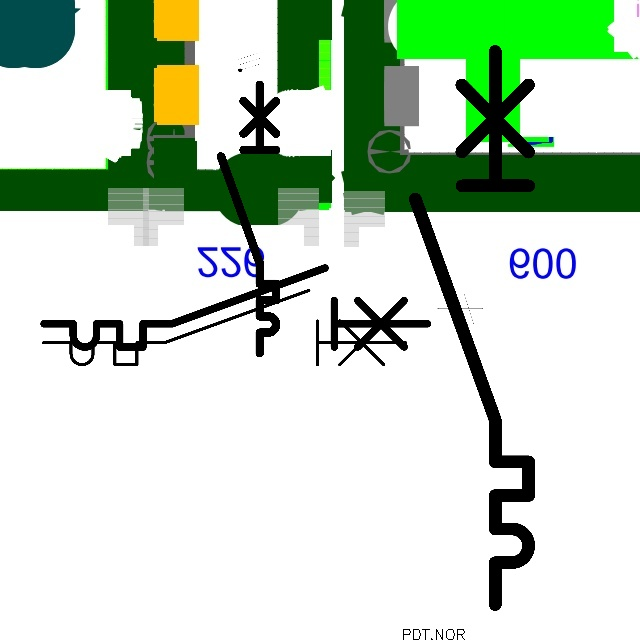interruptor_termomagnetico: (401, 37, 543, 619), (34, 258, 437, 357), (34, 281, 415, 374), (214, 77, 283, 359)
